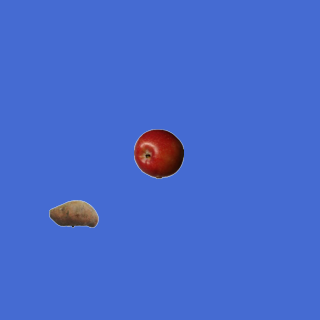Apple Braeburn: (133, 128, 183, 178)
Potato Sweet: (48, 188, 98, 238)
